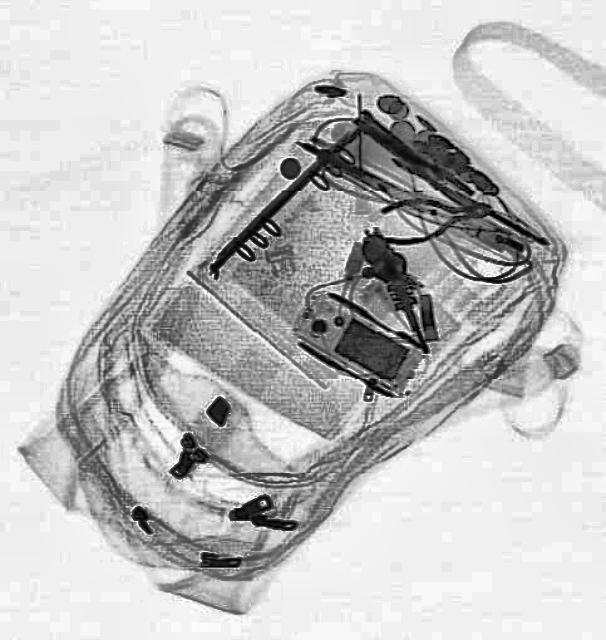Pliers: (374, 185, 494, 248)
